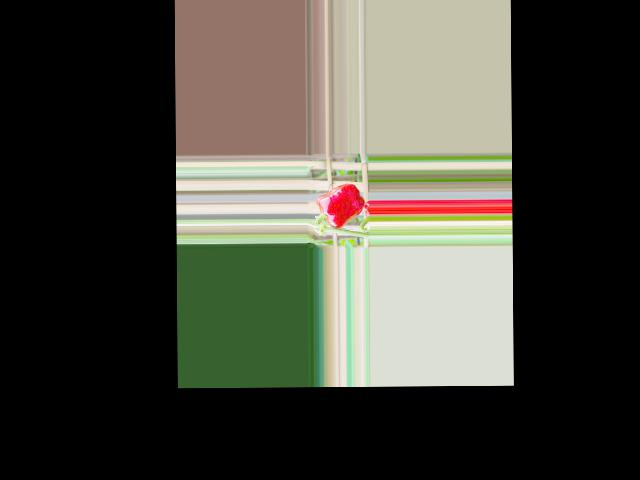bell_pepper: (316, 180, 364, 231)
